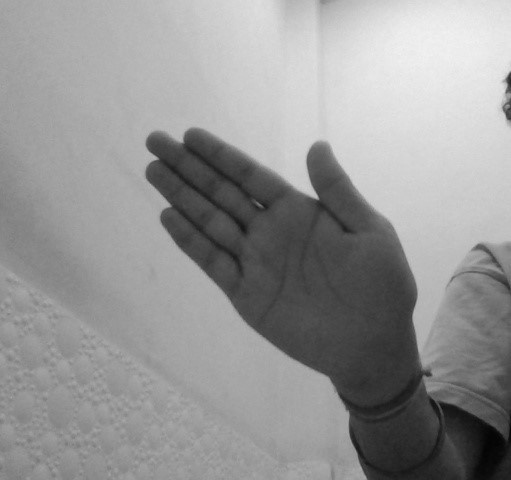Hello: (142, 122, 423, 383)
